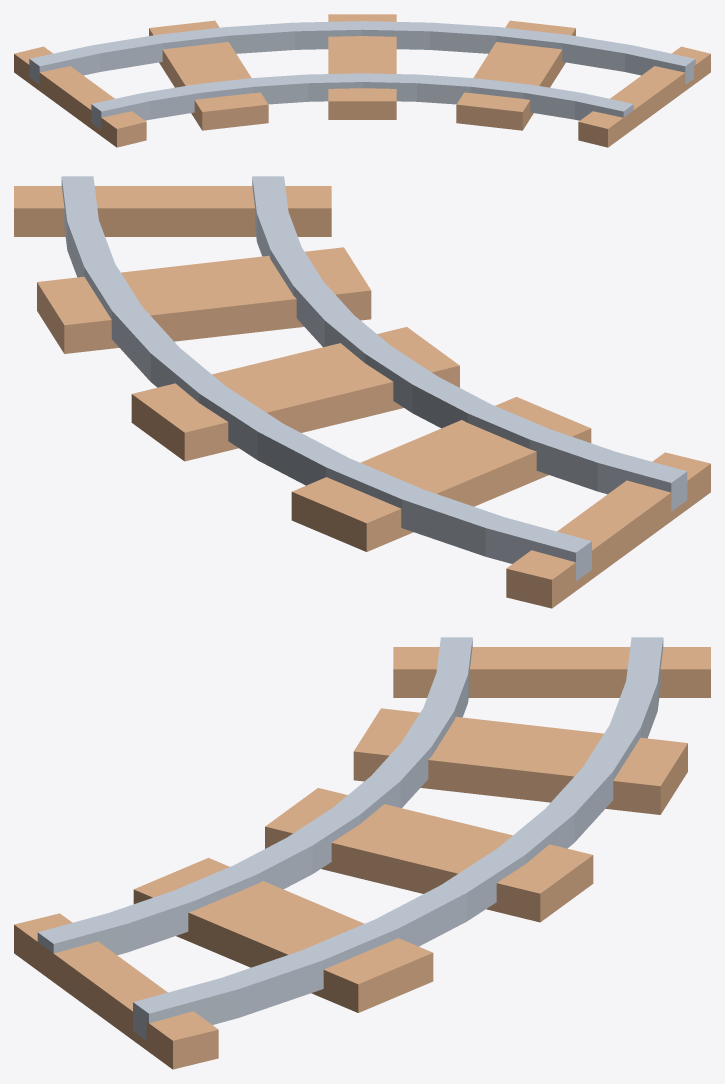
Rendered from curved_1-2-3-4.dae.
The picture shows the model from 3 angles, top to bottom: view 1: azimuth 30°, elevation 25°; view 2: azimuth 150°, elevation 25°; view 3: azimuth 270°, elevation 25°; orthographic projection. The views are drawn at different scales.
Visible parts, largest first — view 1: Rails Curved, Beats Curved 01; view 2: Beats Curved 01, Rails Curved; view 3: Beats Curved 01, Rails Curved.
Part boxes in pixels (x1,y1,x2,y2): Rails Curved: [29, 21, 695, 129]; Beats Curved 01: [14, 14, 710, 147]; Beats Curved 01: [14, 186, 710, 608]; Rails Curved: [61, 176, 687, 581]; Beats Curved 01: [14, 647, 710, 1069]; Rails Curved: [37, 637, 663, 1040].
Bounding box in the file's own units: 0.8799 × 0.658 × 0.04.
